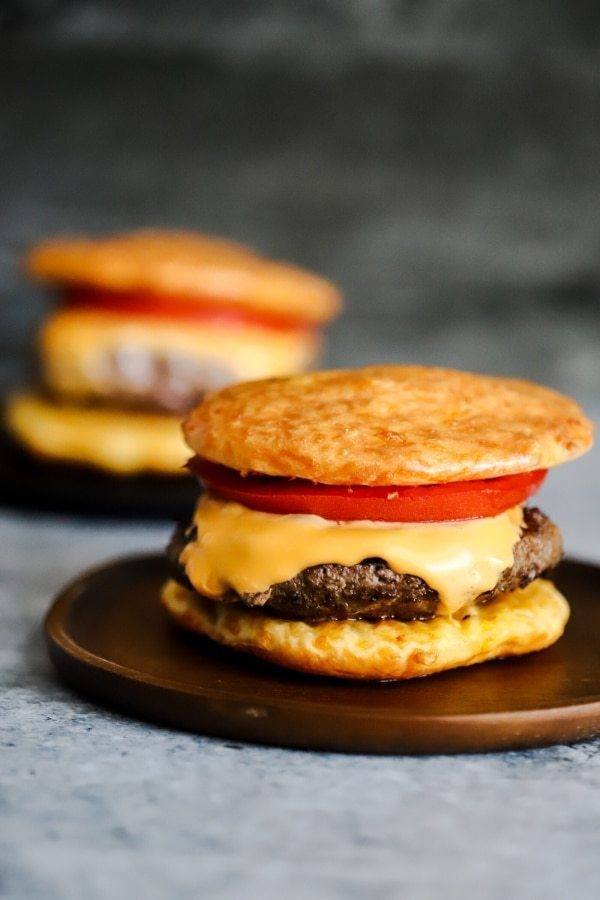hamburger_buns: (160, 347, 581, 685)
